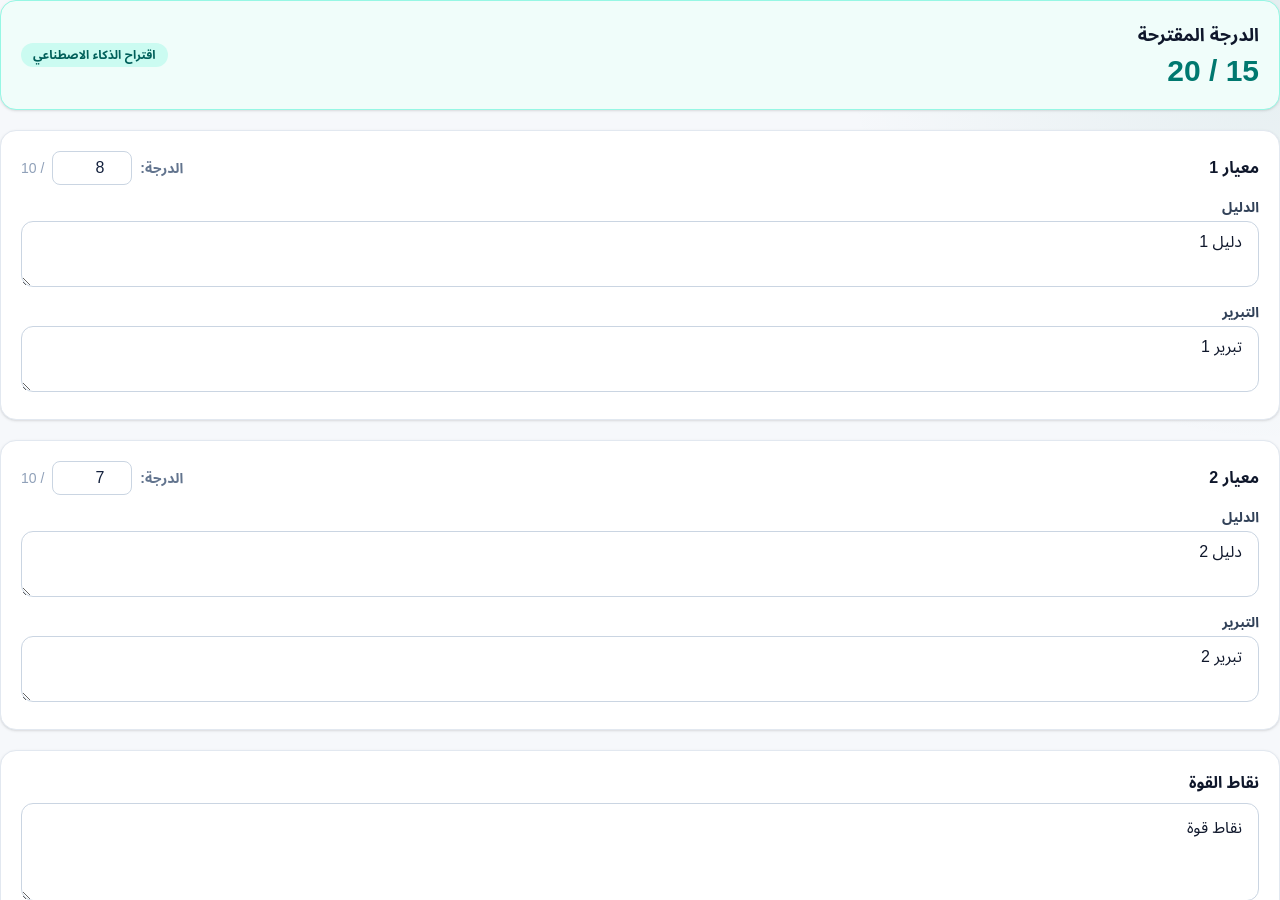
GradingResult › updates earned total when editing a criterion score
Step 1. Replace the text in the number field showing "8" in the row of "معيار 1" with "10" → (92, 168), box x1=52 y1=151 x2=132 y2=185
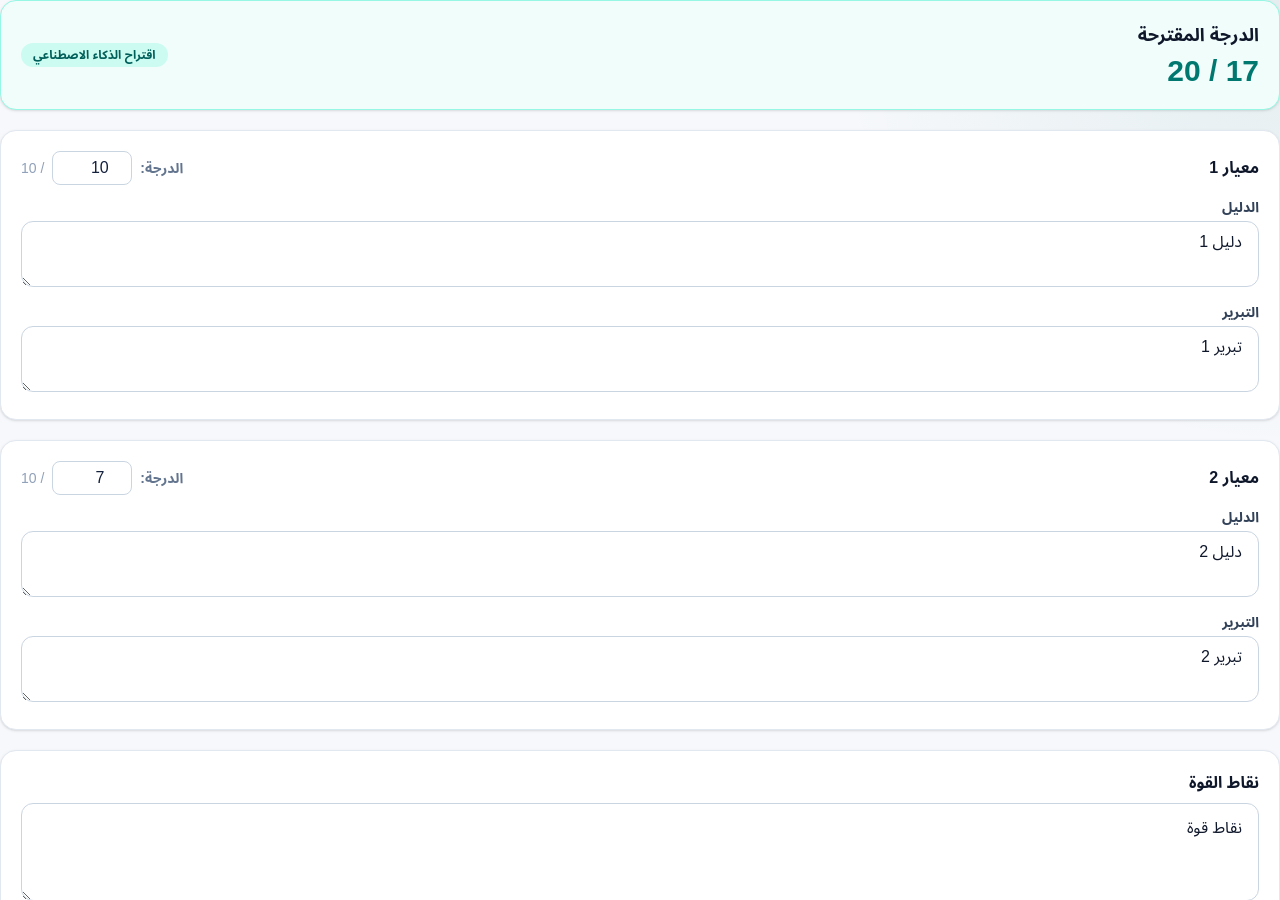
Expected: the text "17 / 20" is shown, x1=1167 y1=54 x2=1259 y2=87
